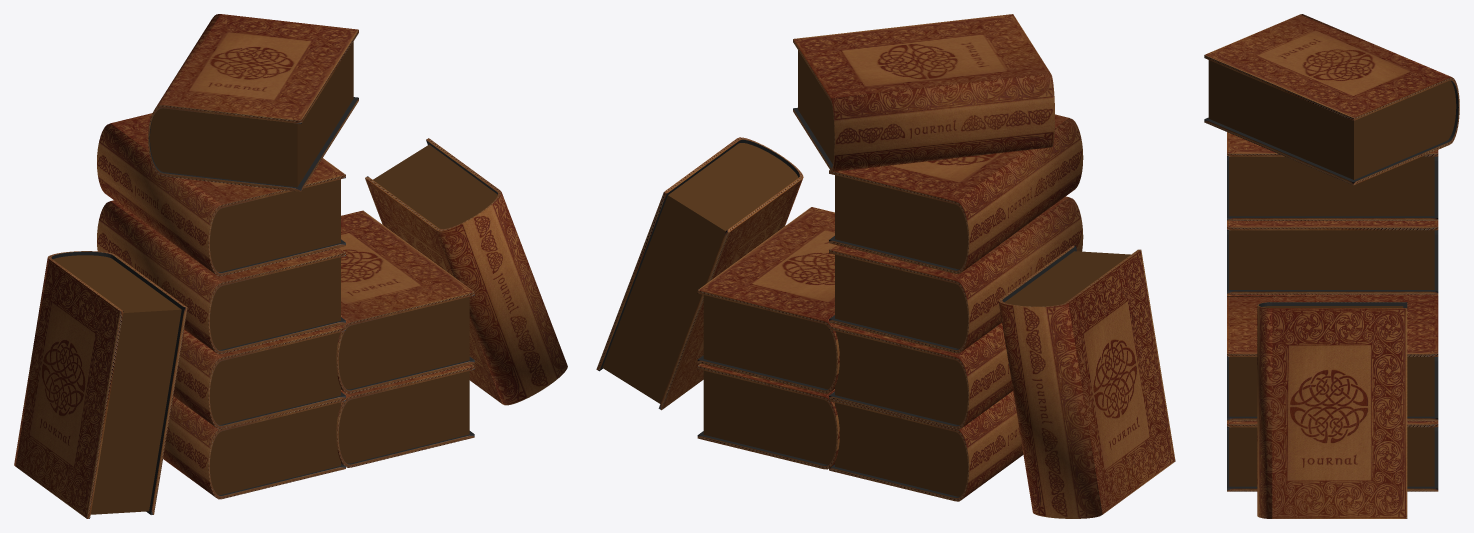
Rendered from books.obj.
3 renders of one model, left to right at view 1: azimuth 30°, elevation 25°; view 2: azimuth 150°, elevation 25°; view 3: azimuth 270°, elevation 25°, orthographic. The views are drawn at different scales.
Parts seen in each view (by area): view 1: Book_to_import.011_Circle.003, Book_to_import.009_Circle.002, Book_to_import.016_Circle.003, Book_to_import.013_Circle.003, Book_to_import.015_Circle.003, Book_to_import.012_Circle.003, Book_to_import.005_Circle.003, Book_to_import.010_Circle.003, Book_to_import.014_Circle.003; view 2: Book_to_import.011_Circle.003, Book_to_import.009_Circle.002, Book_to_import.016_Circle.003, Book_to_import.013_Circle.003, Book_to_import.015_Circle.003, Book_to_import.012_Circle.003, Book_to_import.005_Circle.003, Book_to_import.010_Circle.003, Book_to_import.014_Circle.003; view 3: Book_to_import.016_Circle.003, Book_to_import.009_Circle.002, Book_to_import.012_Circle.003, Book_to_import.013_Circle.003, Book_to_import.015_Circle.003, Book_to_import.014_Circle.003, Book_to_import.010_Circle.003.
Boxes of the visible parts, <box> form: Book_to_import.011_Circle.003: <box>14,251,187,518</box>; Book_to_import.009_Circle.002: <box>148,14,358,191</box>; Book_to_import.016_Circle.003: <box>365,138,567,405</box>; Book_to_import.013_Circle.003: <box>97,113,345,276</box>; Book_to_import.015_Circle.003: <box>336,210,474,393</box>; Book_to_import.012_Circle.003: <box>97,200,345,354</box>; Book_to_import.005_Circle.003: <box>163,396,345,499</box>; Book_to_import.010_Circle.003: <box>173,325,345,428</box>; Book_to_import.014_Circle.003: <box>336,364,474,467</box>; Book_to_import.011_Circle.003: <box>998,245,1175,518</box>; Book_to_import.009_Circle.002: <box>793,14,1054,171</box>; Book_to_import.016_Circle.003: <box>596,137,803,410</box>; Book_to_import.013_Circle.003: <box>829,114,1083,273</box>; Book_to_import.015_Circle.003: <box>697,207,839,393</box>; Book_to_import.012_Circle.003: <box>829,196,1083,353</box>; Book_to_import.005_Circle.003: <box>829,391,1023,501</box>; Book_to_import.010_Circle.003: <box>829,322,1012,429</box>; Book_to_import.014_Circle.003: <box>697,363,839,469</box>; Book_to_import.016_Circle.003: <box>1257,302,1407,518</box>; Book_to_import.009_Circle.002: <box>1204,14,1459,185</box>; Book_to_import.012_Circle.003: <box>1227,221,1438,294</box>; Book_to_import.013_Circle.003: <box>1227,132,1438,220</box>; Book_to_import.015_Circle.003: <box>1227,296,1438,421</box>; Book_to_import.014_Circle.003: <box>1227,421,1438,491</box>; Book_to_import.010_Circle.003: <box>1227,294,1438,295</box>.
Size of the model in its own units: 0.6306 by 0.4758 by 0.3024.
